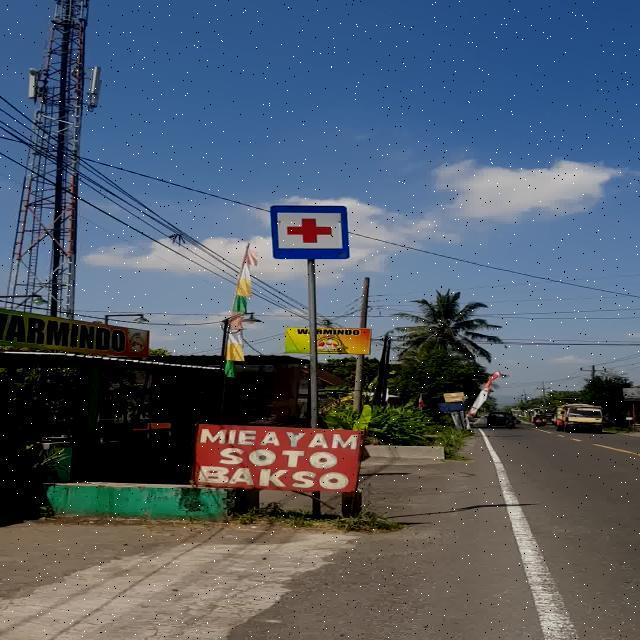Balai Pertolongan Pertama: (270, 205, 349, 259)
